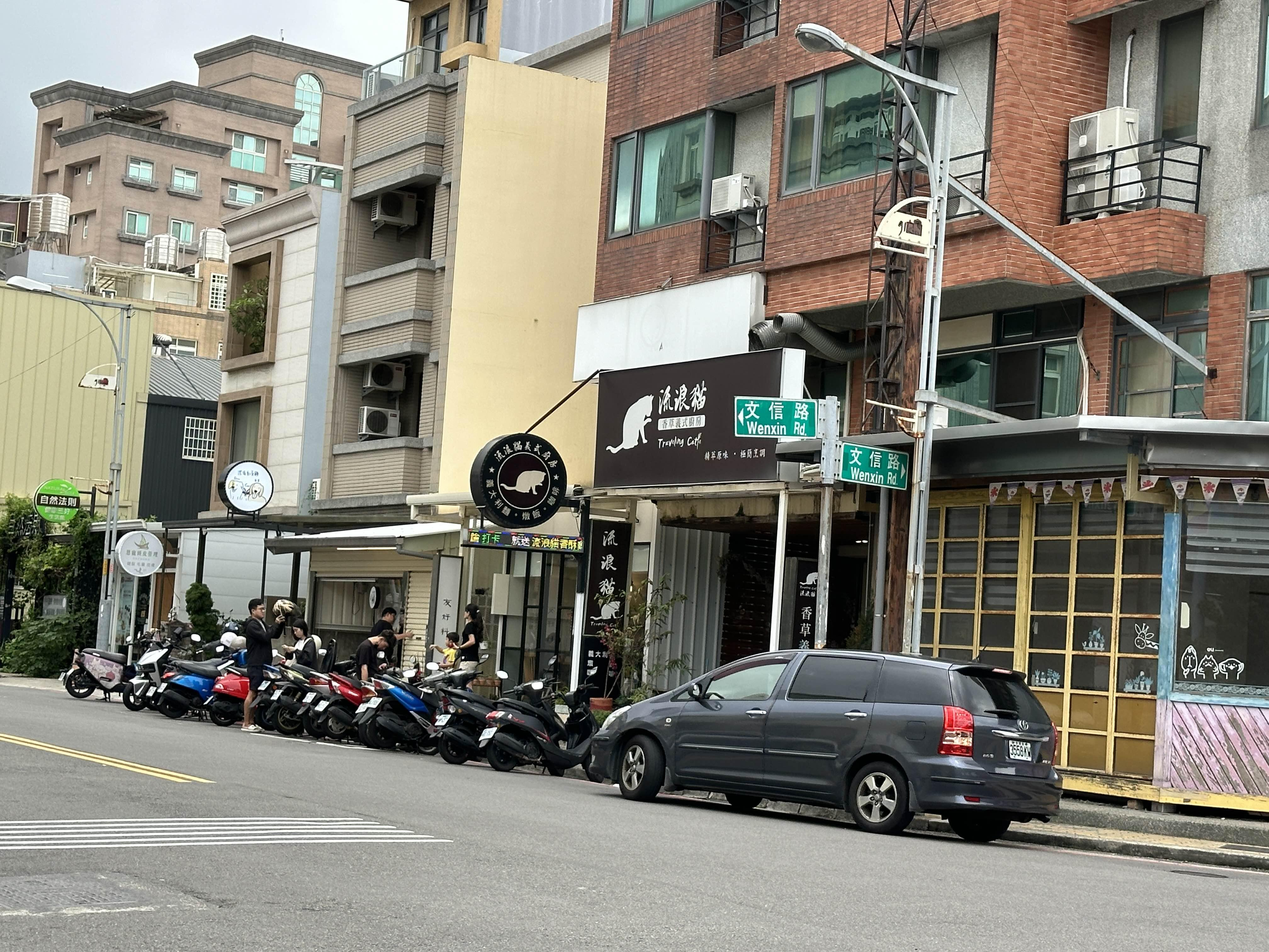NoHelmet: (380, 630, 398, 650), (249, 598, 266, 619), (293, 618, 309, 640), (464, 603, 481, 621), (382, 606, 397, 624)
